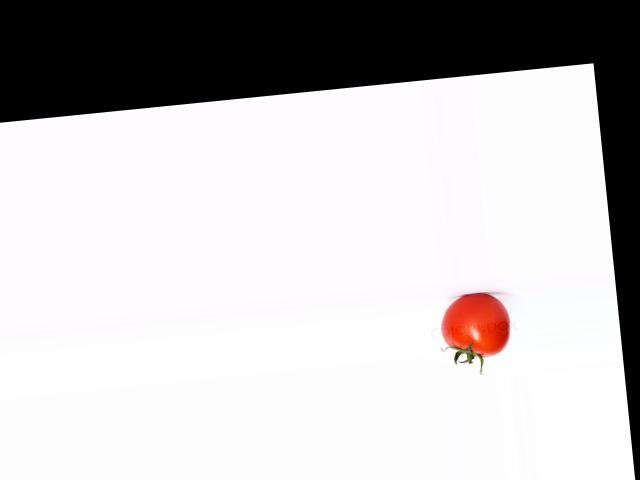tomato: (439, 291, 513, 361)
